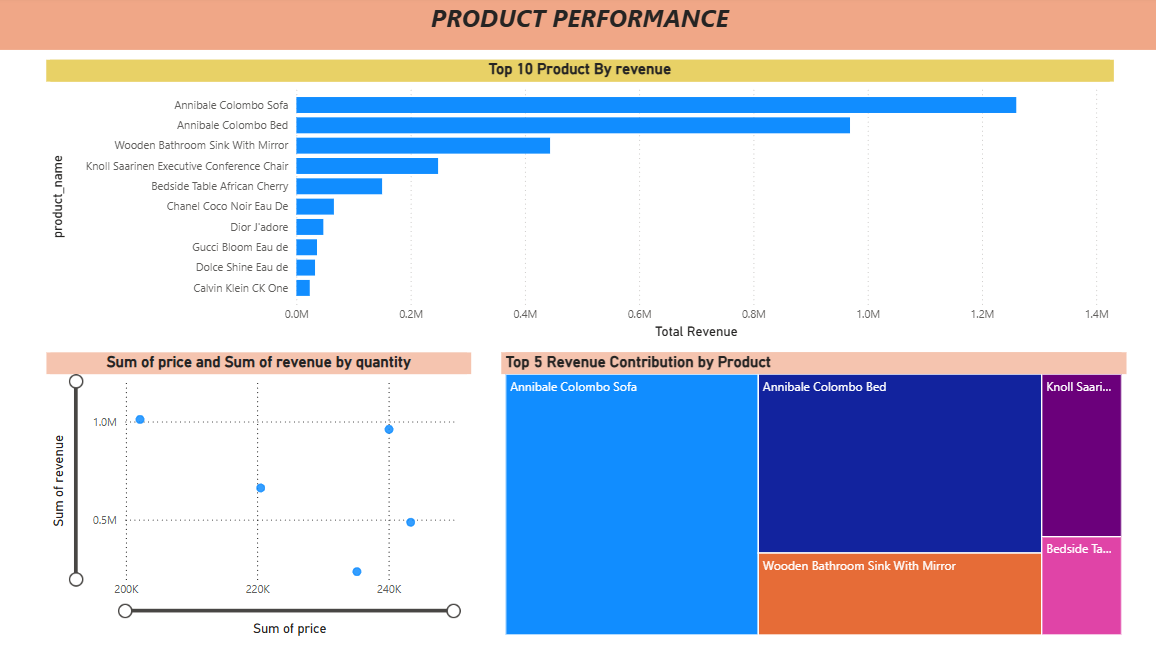

What the dashboard file says about the page in this screenshot:
{"tool":"powerbi","page":{"name":"Page 2","canvas":[1280,720],"ordinal":1},"visuals":[{"type":"textbox","box":[0,0,1280.3,59],"z":0},{"type":"barChart","title":"Top 10 Product By revenue ","fields":{"Category":["cleaned_sales_data.product_name"],"Y":["cleaned_sales_data.Total Revenue"]},"box":[50.8,70,1171.9,311.5],"z":1000},{"type":"scatterChart","fields":{"X":["Sum(cleaned_sales_data.price)"],"Y":["Sum(cleaned_sales_data.revenue)"],"Category":["cleaned_sales_data.quantity"]},"box":[50.8,391.1,466.6,315.6],"z":2000},{"type":"treemap","title":"Top 5 Revenue Contribution by Product","fields":{"Group":["cleaned_sales_data.product_name"],"Values":["Sum(cleaned_sales_data.revenue)"]},"box":[550.3,391.1,686.1,315.6],"z":3000}]}

Visuals, with their boxes in screenshot pixels (x1, y1, x2, y2), scaled from the page's 1280x720 canvas onto the 1156x649 screenshot:
textbox: l=0, t=0, r=1155, b=53
"Top 10 Product By revenue " barChart: l=46, t=63, r=1104, b=344
scatterChart - Sum(cleaned_sales_data.price) x Sum(cleaned_sales_data.revenue): l=46, t=353, r=467, b=637
"Top 5 Revenue Contribution by Product" treemap: l=497, t=353, r=1117, b=637
